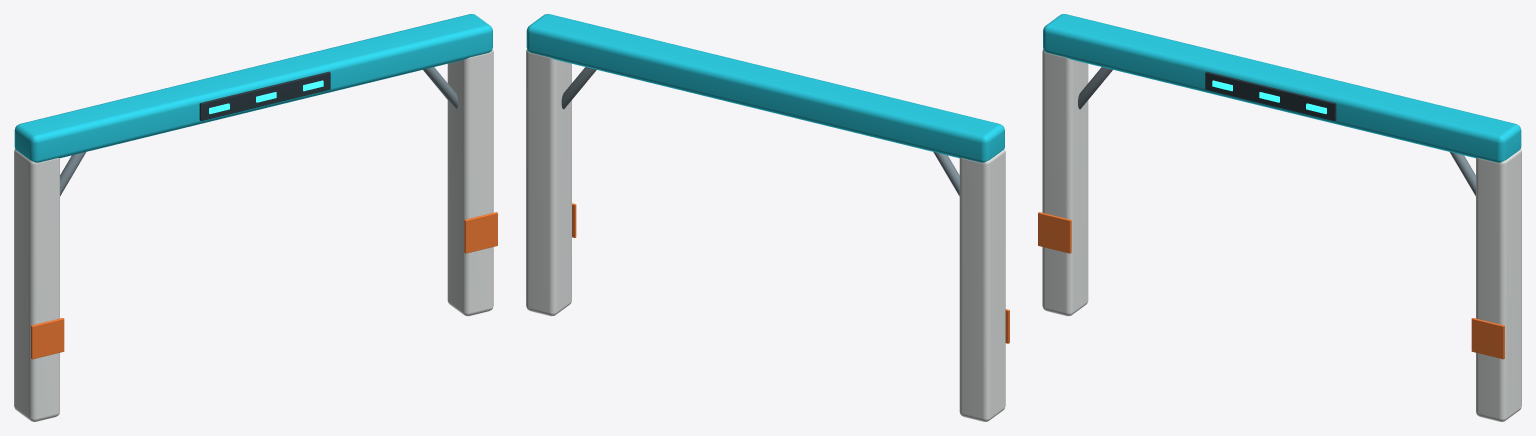
Rendered from ServiceArch.fbx.
The picture shows the model from 3 angles, left to right: view 1: azimuth 30°, elevation 25°; view 2: azimuth 150°, elevation 25°; view 3: azimuth 330°, elevation 25°; orthographic projection.
Visible parts, largest first — view 1: Arch_Top, Arch_Pillar, Arch_Pillar.001, Arch_SignInset, Arch_SafetyBand, Arch_SafetyBand.001, Arch_Brace.001; view 2: Arch_Top, Arch_Pillar, Arch_Pillar.001, Arch_Brace.001; view 3: Arch_Top, Arch_Pillar.001, Arch_Pillar, Arch_SignInset, Arch_SafetyBand.001, Arch_SafetyBand, Arch_Brace.
Part boxes in pixels (x1,y1,x2,y2): Arch_Top: [14, 14, 492, 162]; Arch_Pillar: [14, 149, 59, 421]; Arch_Pillar.001: [447, 49, 493, 316]; Arch_SignInset: [199, 71, 330, 120]; Arch_SafetyBand: [31, 318, 64, 359]; Arch_SafetyBand.001: [464, 212, 497, 253]; Arch_Brace.001: [423, 67, 457, 109]; Arch_Top: [526, 14, 1004, 162]; Arch_Pillar: [959, 149, 1005, 421]; Arch_Pillar.001: [526, 49, 571, 316]; Arch_Brace.001: [561, 67, 596, 109]; Arch_Top: [1043, 14, 1521, 162]; Arch_Pillar.001: [1476, 149, 1521, 421]; Arch_Pillar: [1042, 49, 1088, 316]; Arch_SignInset: [1205, 71, 1336, 120]; Arch_SafetyBand.001: [1471, 318, 1504, 359]; Arch_SafetyBand: [1038, 212, 1071, 253]; Arch_Brace: [1078, 67, 1112, 109].
Bounding box in the file's own units: 6.45 × 3.79 × 0.5625.
